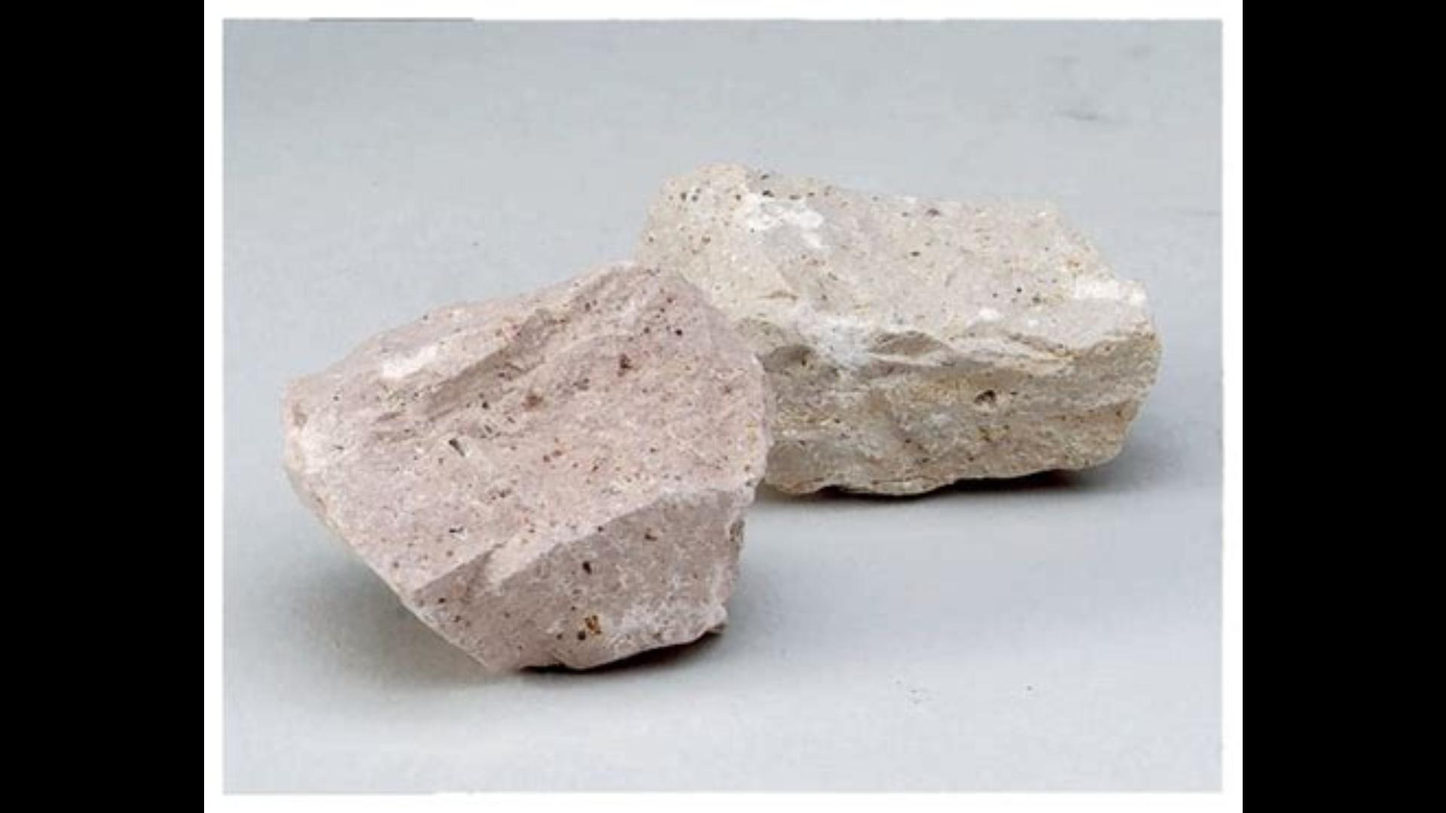rock: (284, 265, 762, 668), (645, 163, 1158, 503)
